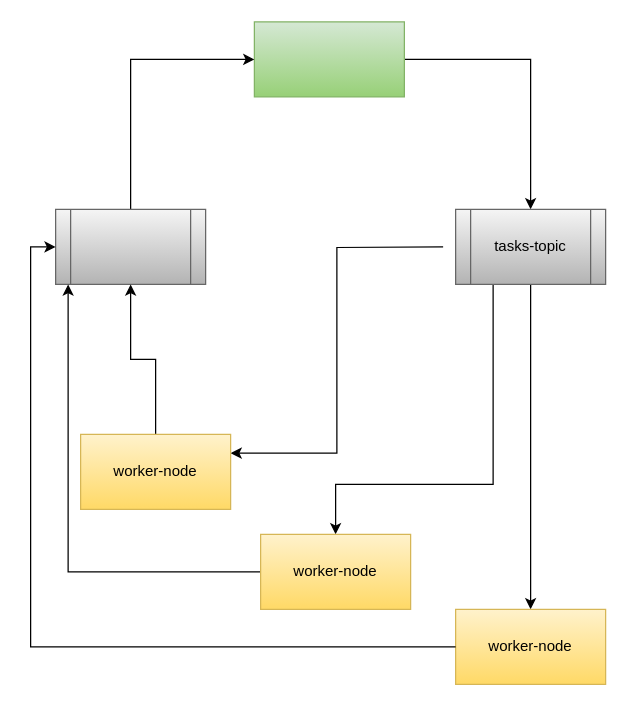
The diagram is 628 pixels wide and 706 high, and some of its shapes have lost their labels. Here are the shapes that lost their labels. From the top down, the box of each, then its label:
(253, 21, 404, 97): master-node
(54, 208, 206, 284): results-topic
